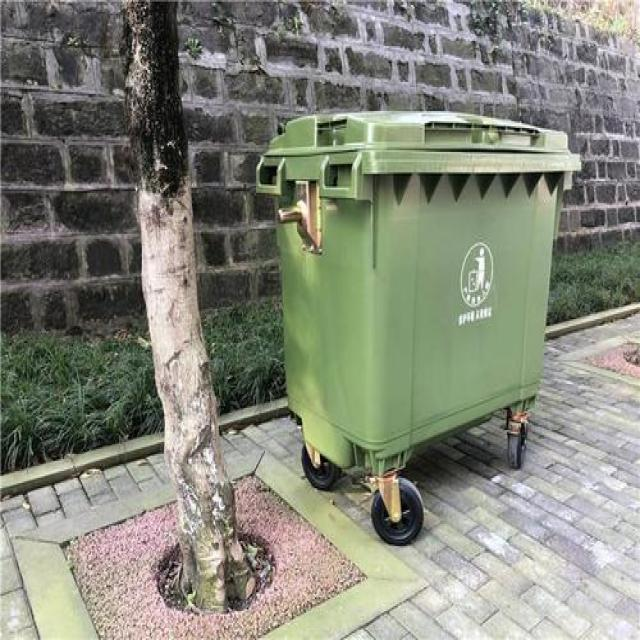garbage_bin: (256, 113, 580, 476)
